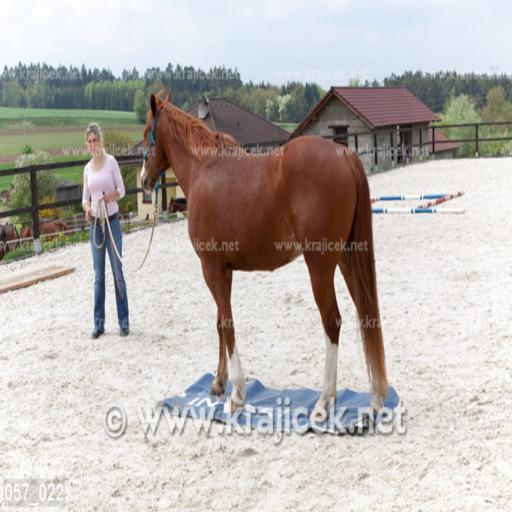horse: (139, 86, 392, 422)
